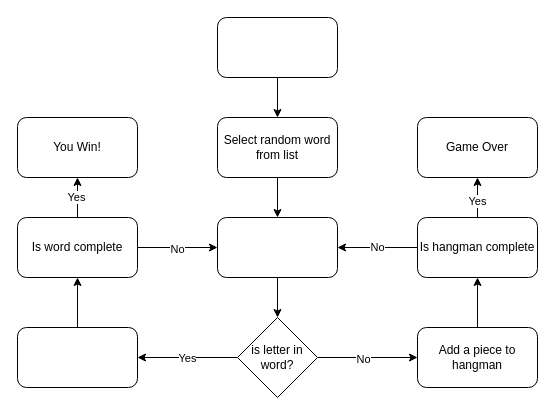
Some shapes in this 555 by 415 pixel diagram are drawn without their labels. Each missing label, with the centre of its shape:
"Ask for user for a letter" goes at (x=277, y=247).
"Display Welcome message" goes at (x=277, y=47).
"Reveal Letter in word" goes at (x=77, y=357).
